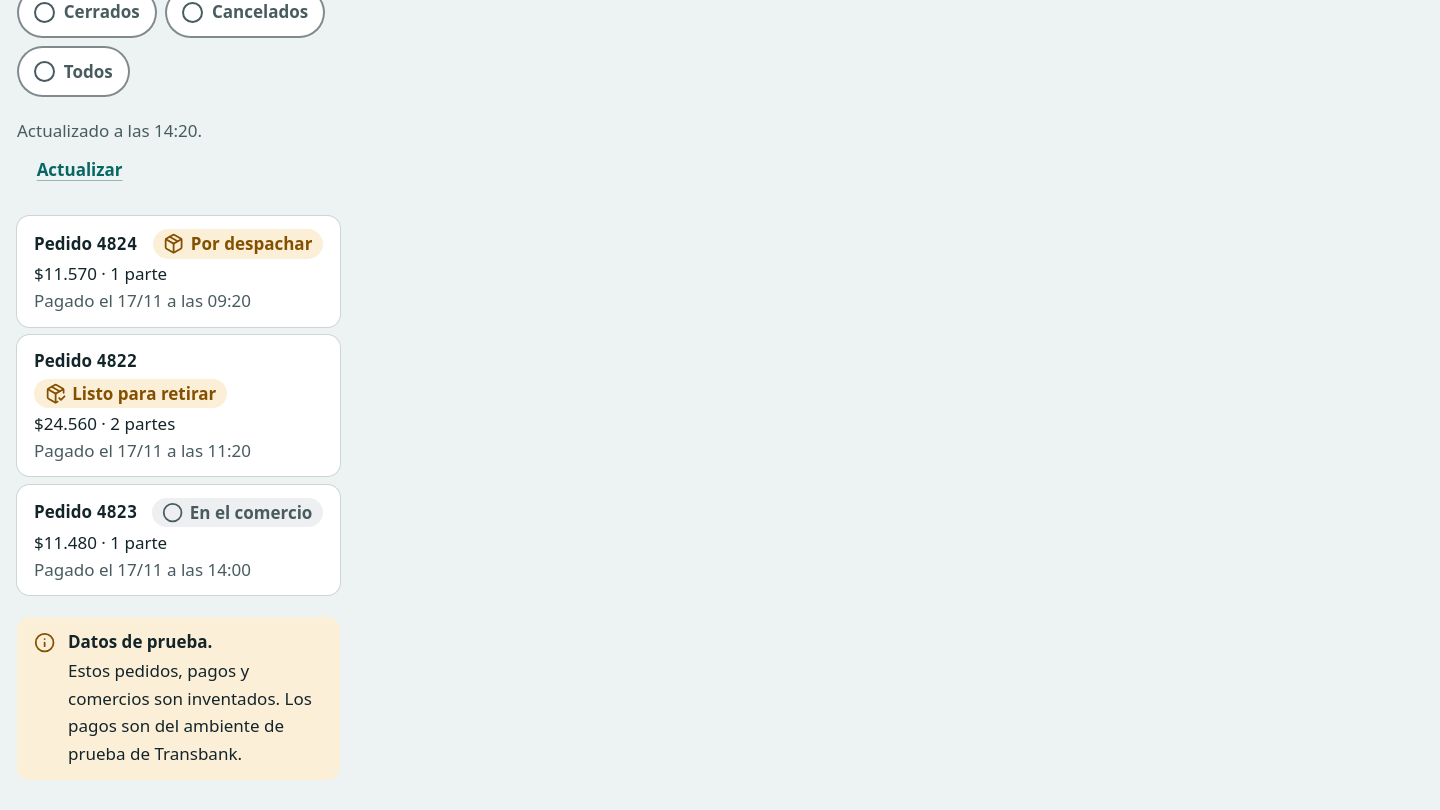
Scenario: Retractos › 8.5 (v1.1): un pedido sin retractos ni plazo para registrar uno no tiene sección «Retractos»
The image size is (1440, 810).
(page scrolled)
Click the button with aria-label "Pedido 4822,". click: (178, 406)
box: [17,335,340,476]
(page scrolled)
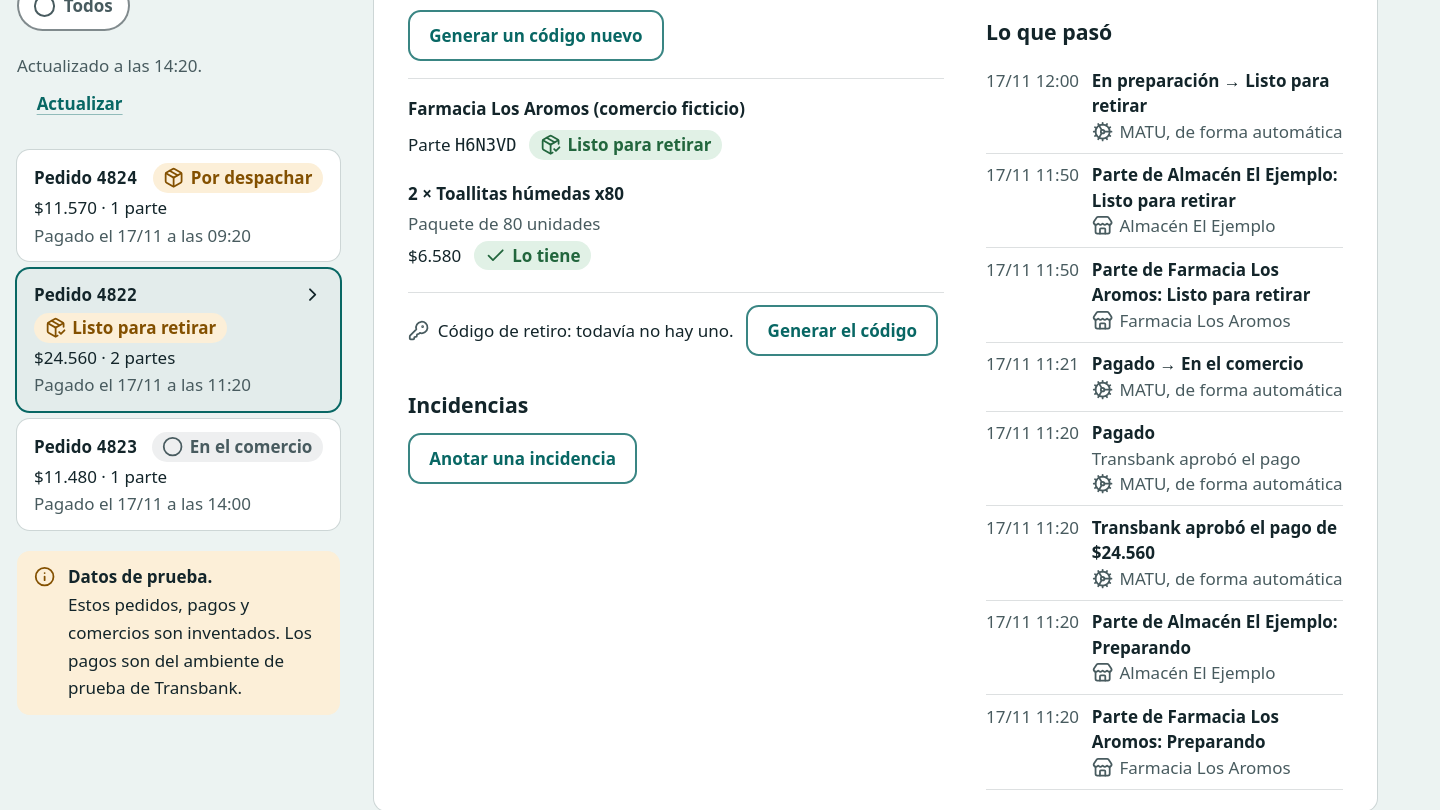
Now the heading "Incidencias" is shown, box [408,390,528,419]
